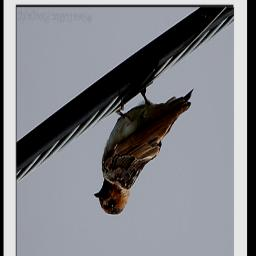Swallow: (93, 81, 197, 218)
